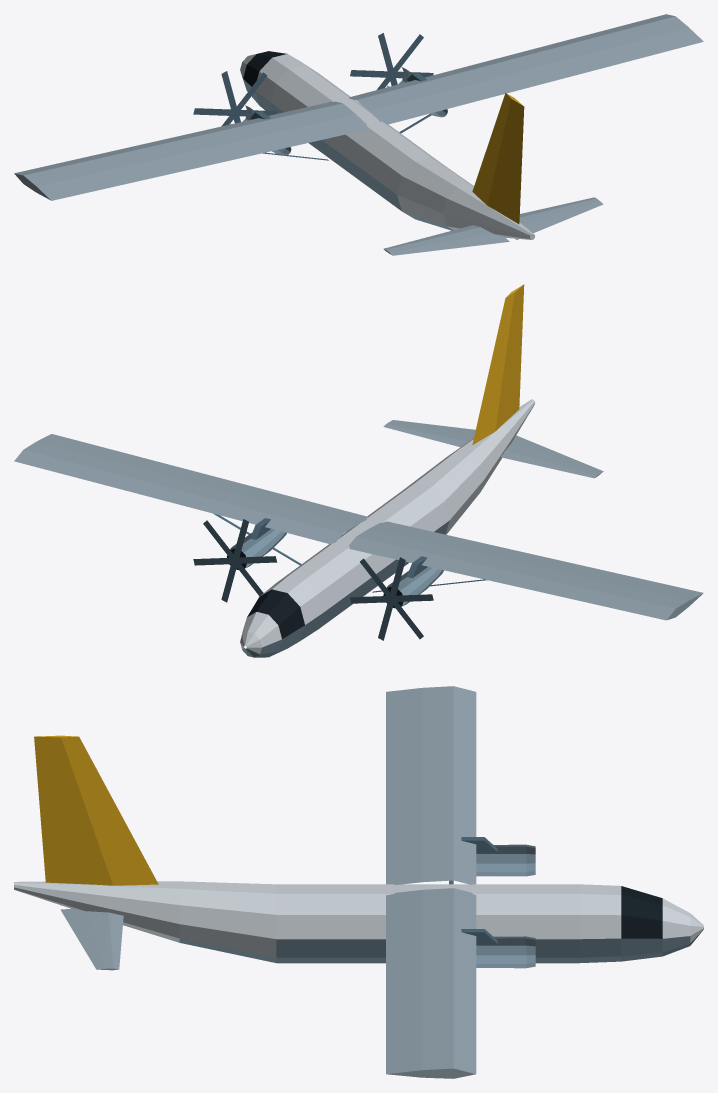
Rendered from DHC6.glb.
The picture shows the model from 3 angles, top to bottom: view 1: azimuth 30°, elevation 25°; view 2: azimuth 150°, elevation 25°; view 3: azimuth 270°, elevation 25°; orthographic projection. The views are drawn at different scales.
Visible parts, largest first — view 1: lod0; view 2: lod0; view 3: lod0.
Boxes of the visible parts, left/top/right/bottom form: lod0: left=14, top=14, right=703, bottom=255; lod0: left=14, top=284, right=703, bottom=657; lod0: left=14, top=686, right=703, bottom=1078.
Size of what is drawn, in the model's own units: 1.31 by 0.3561 by 1.
